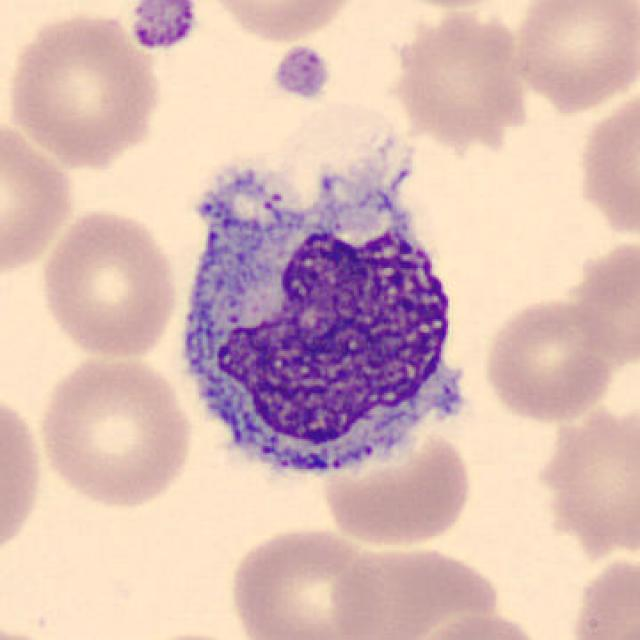Monocyte: (162, 153, 489, 498)
Platelets: (124, 0, 201, 53), (270, 42, 334, 104)
RBC: (2, 7, 167, 169), (34, 349, 197, 511), (36, 205, 182, 362), (386, 5, 533, 145), (316, 423, 476, 550), (224, 522, 396, 640), (480, 293, 626, 425), (325, 538, 505, 638), (507, 0, 638, 113), (548, 404, 640, 562), (0, 114, 78, 284), (572, 81, 638, 249), (565, 238, 640, 365), (0, 384, 48, 564), (199, 0, 363, 44), (564, 548, 638, 640), (402, 608, 551, 640), (375, 0, 521, 12)
